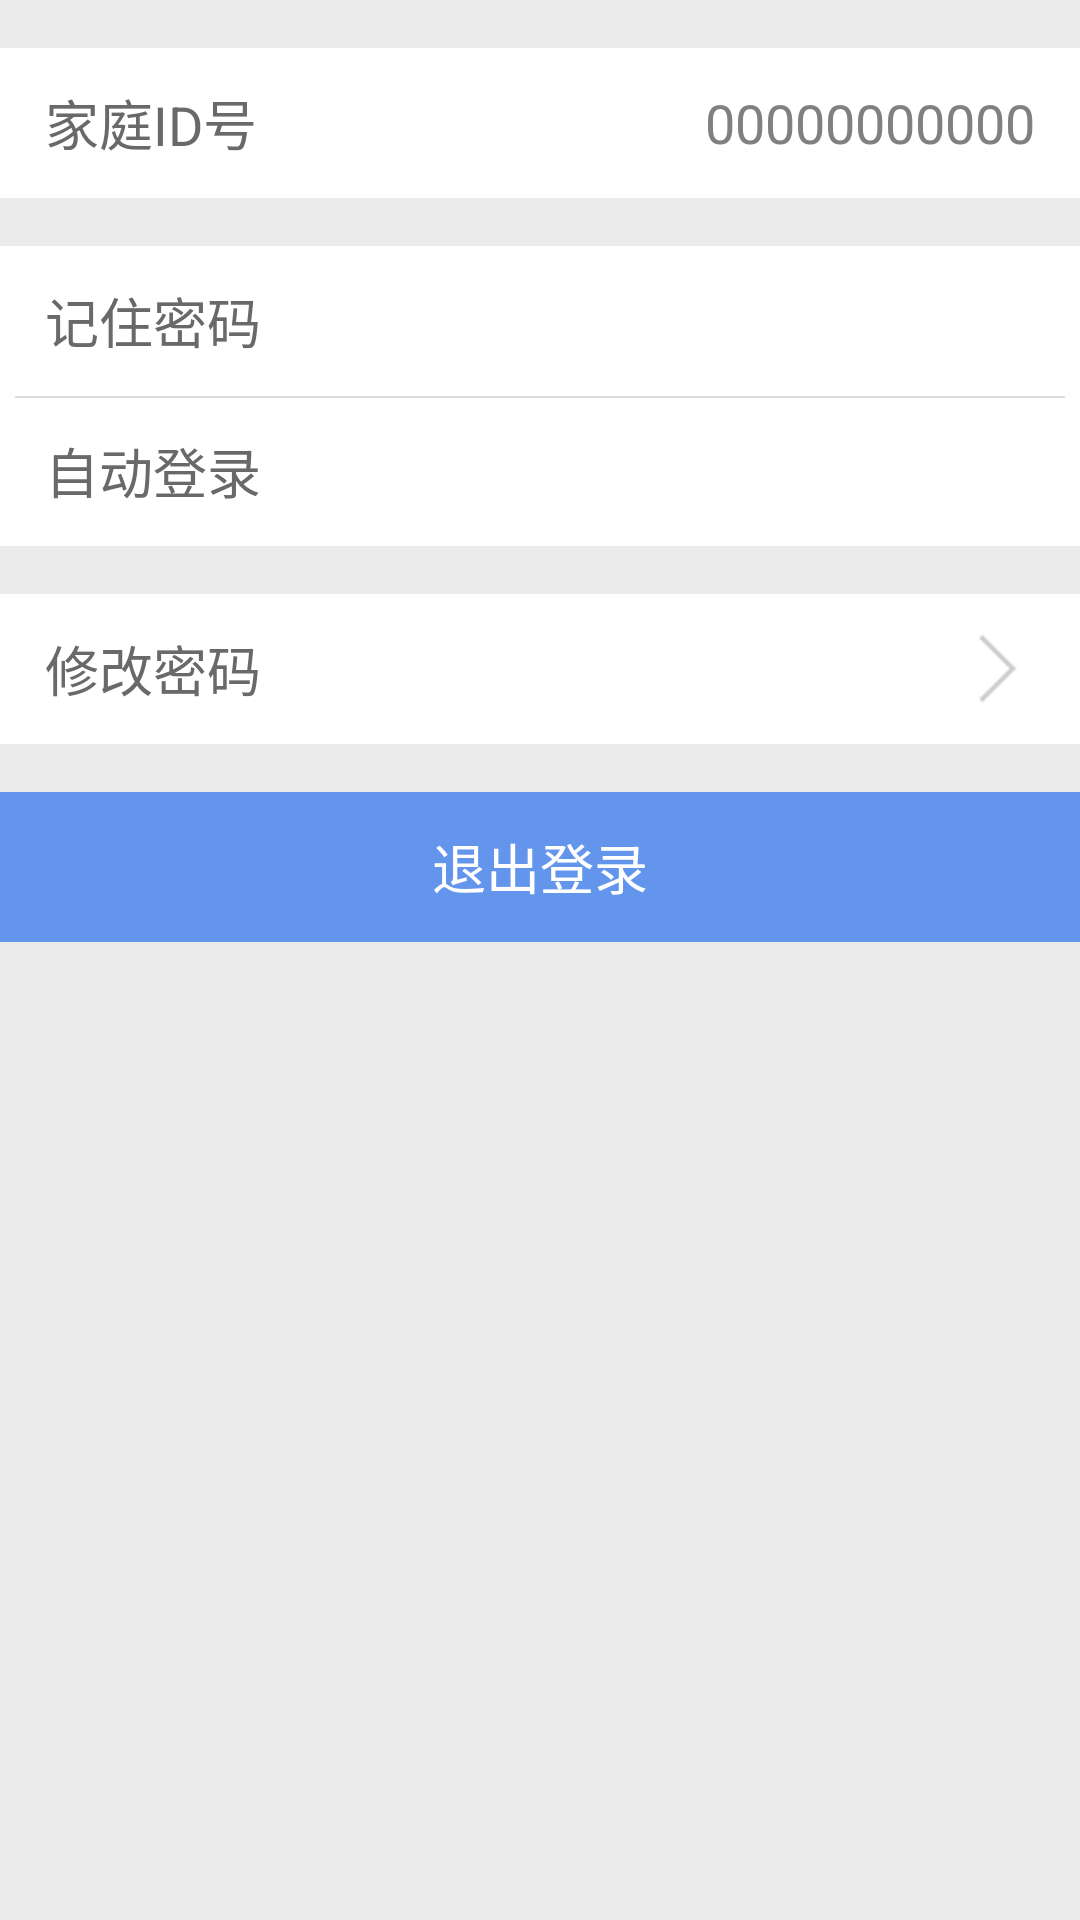

Point at icon controls on the screen. Image size 1080px×1920px, points as point (x, y).
right: point (997, 668)
